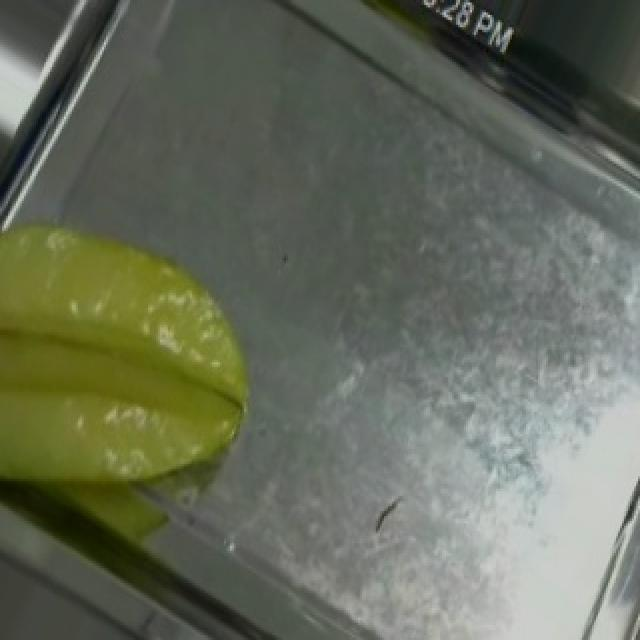fruit: (0, 176, 324, 561)
